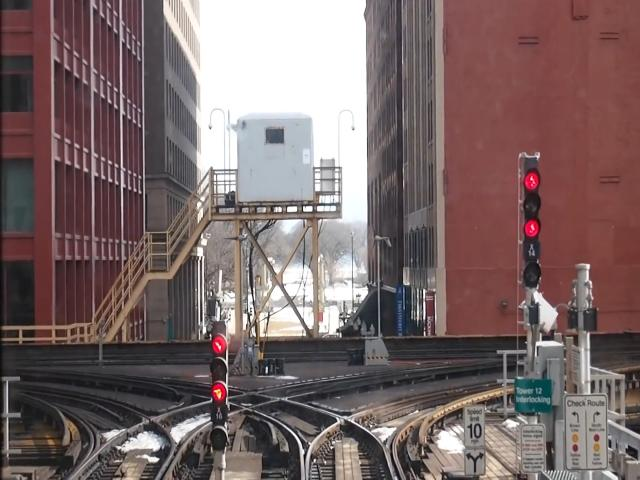signal light: (520, 153, 545, 289), (211, 319, 230, 455)
